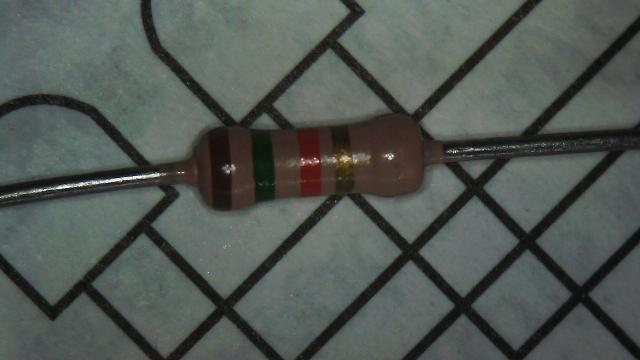brown: (208, 127, 236, 213)
gold: (332, 123, 354, 197)
green: (250, 129, 278, 204)
orange: (298, 126, 322, 198)
resistor: (180, 109, 447, 218)
